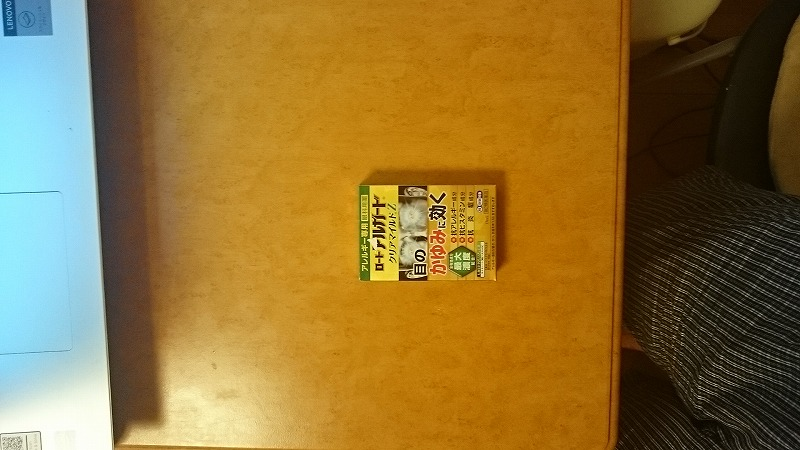C: (355, 177, 504, 292)
